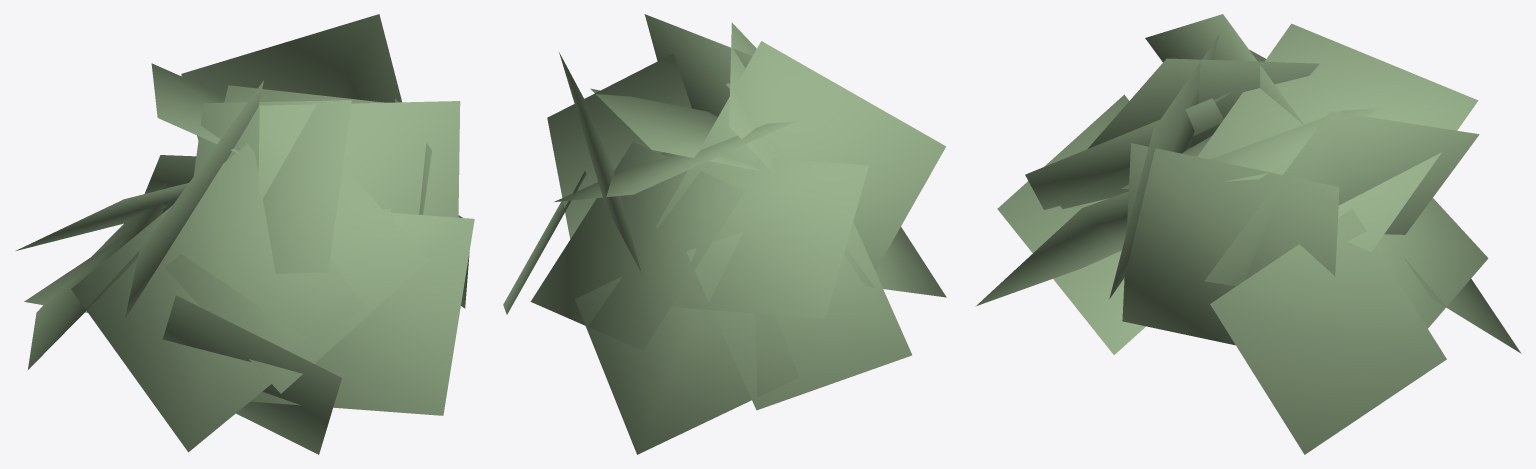
The model's file is shrub_fringe_b.glb.
3 renders of one model, left to right at view 1: azimuth 30°, elevation 25°; view 2: azimuth 150°, elevation 25°; view 3: azimuth 270°, elevation 25°, orthographic. The views are drawn at different scales.
Parts seen in each view (by area): view 1: shrub_fringe_b; view 2: shrub_fringe_b; view 3: shrub_fringe_b.
Boxes of the visible parts, left/top/right/bottom form: shrub_fringe_b: left=16, top=14, right=474, bottom=454; shrub_fringe_b: left=503, top=14, right=946, bottom=454; shrub_fringe_b: left=975, top=14, right=1521, bottom=454.
Bounding box in the file's own units: 1.83 × 1.35 × 1.94.
